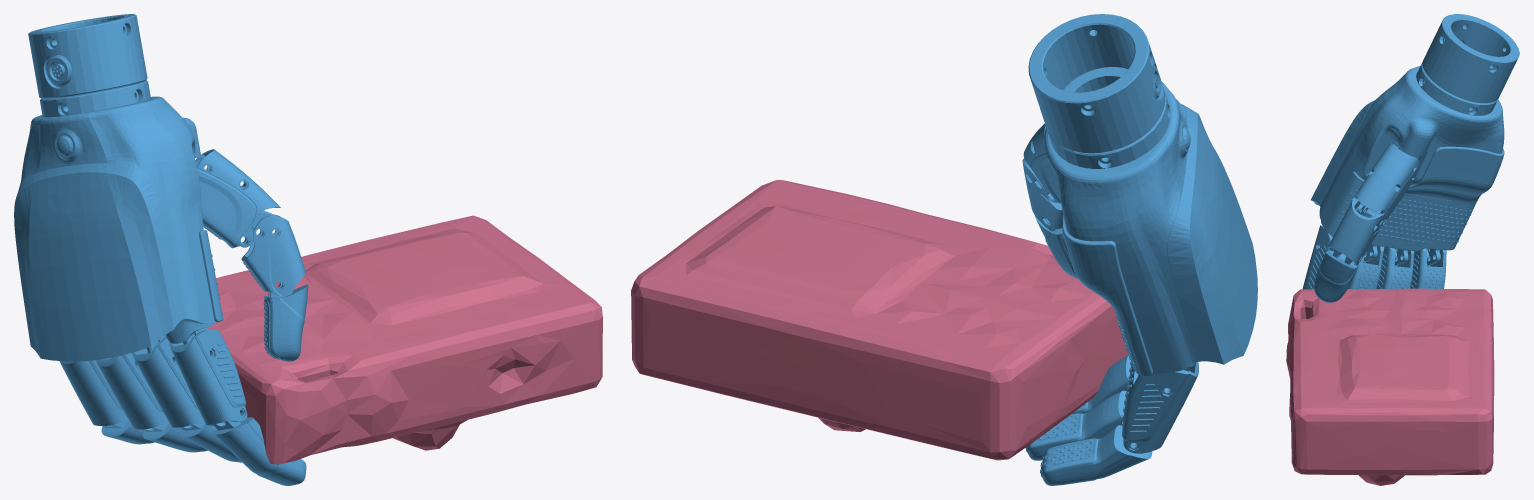
3 views of the same model, side by side, from view 1: azimuth 30°, elevation 25°; view 2: azimuth 150°, elevation 25°; view 3: azimuth 270°, elevation 25° (orthographic). The views are drawn at different scales.
Parts seen in each view (by area): view 1: 2; view 2: 2; view 3: 2.
Boxes of the visible parts, bbox=[...] form: 2: bbox=[14, 14, 602, 485]; 2: bbox=[631, 14, 1257, 485]; 2: bbox=[1286, 14, 1519, 485].
Size of the model in its own units: 0.2594 by 0.2302 by 0.1375.
